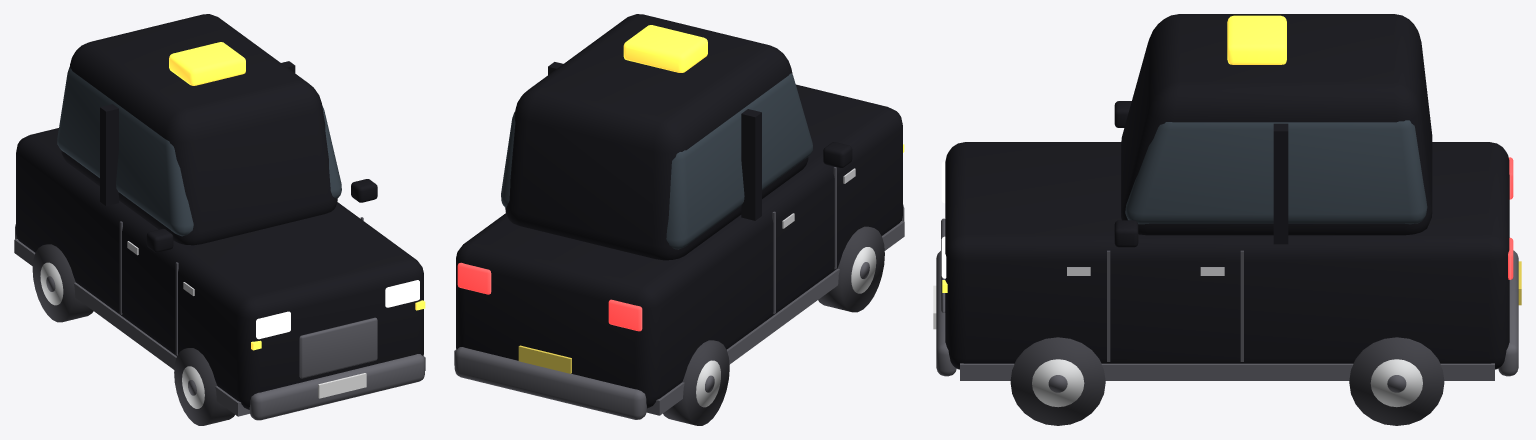
Rendered from taxi.glb.
3 renders of one model, left to right at view 1: azimuth 30°, elevation 25°; view 2: azimuth 150°, elevation 25°; view 3: azimuth 270°, elevation 25°, orthographic. The views are drawn at different scales.
Visible parts, largest first — view 1: taxi; view 2: taxi; view 3: taxi.
Part boxes in pixels (<box>): taxi: <box>14,14,425,425</box>; taxi: <box>454,14,904,425</box>; taxi: <box>933,14,1521,425</box>.
Bounding box in the file's own units: 1.04 × 1.26 × 1.98.
